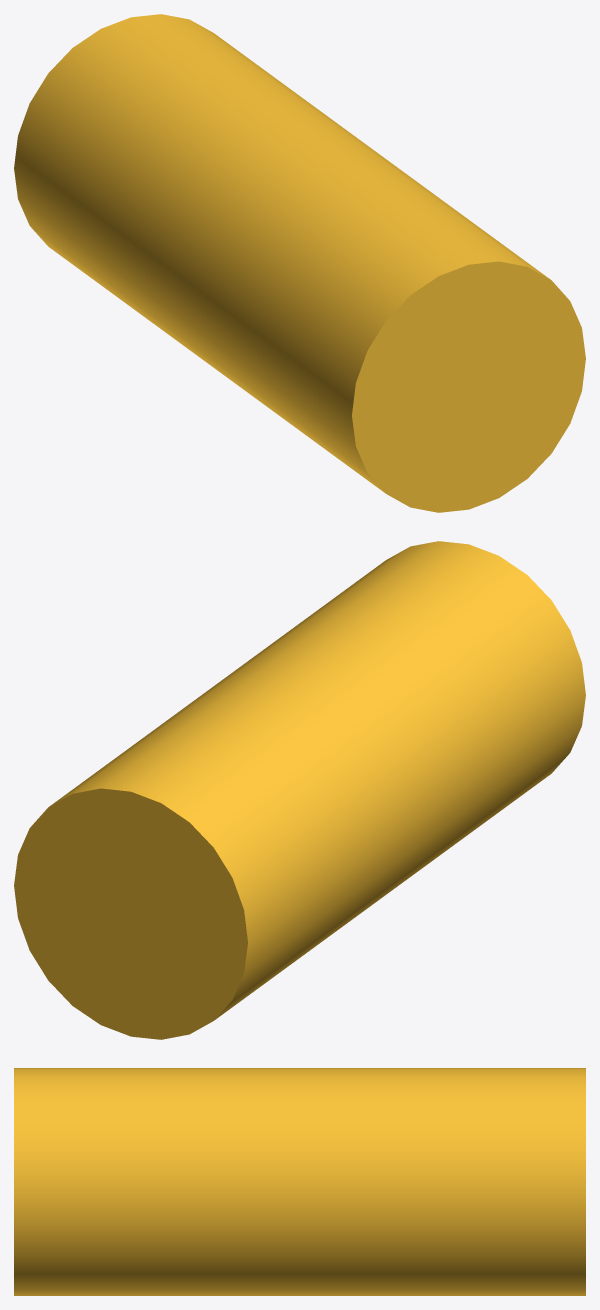
File: bullet.gltf
The picture shows the model from 3 angles, top to bottom: view 1: azimuth 30°, elevation 25°; view 2: azimuth 150°, elevation 25°; view 3: azimuth 270°, elevation 25°; orthographic projection. The views are drawn at different scales.
Visible parts, largest first — view 1: foamBulletA; view 2: foamBulletA; view 3: foamBulletA.
Part boxes in pixels (left/top/right/bottom): foamBulletA: left=14, top=14, right=585, bottom=512; foamBulletA: left=14, top=541, right=585, bottom=1039; foamBulletA: left=14, top=1068, right=585, bottom=1295.
Bounding box in the file's own units: 0.02 × 0.02 × 0.05.
